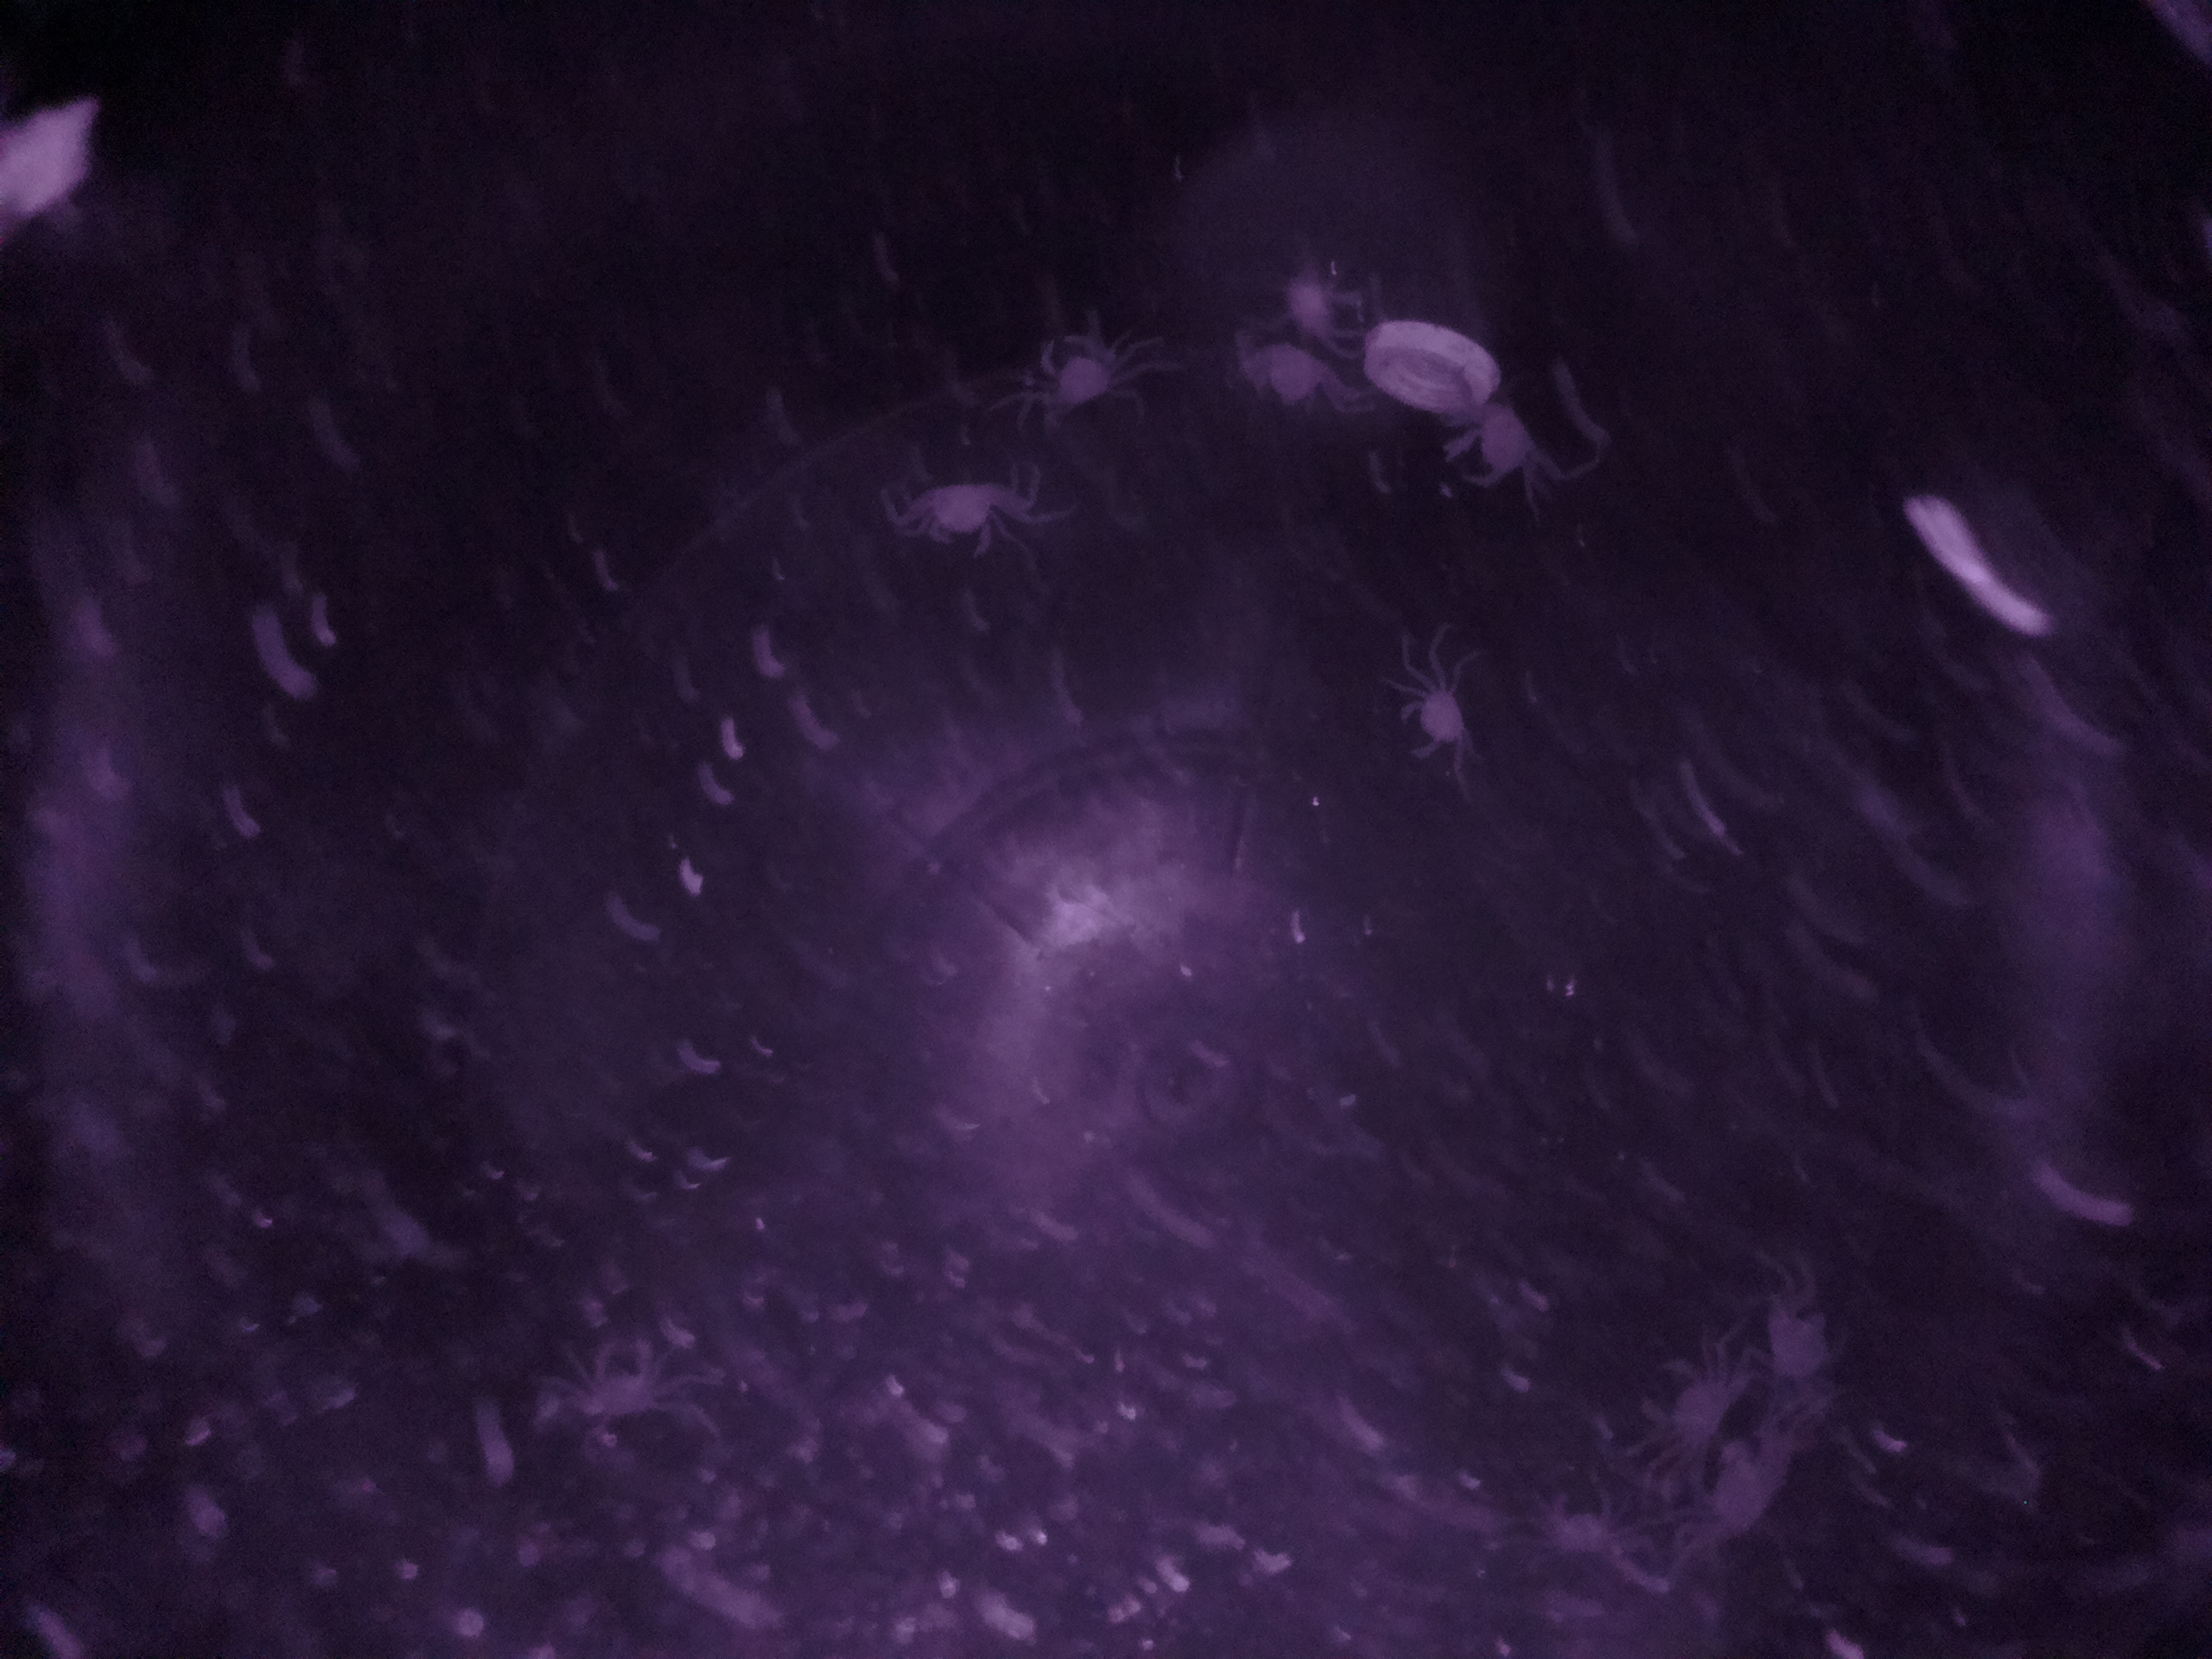Crab: (1017, 314, 1134, 432), (1428, 382, 1540, 497), (904, 453, 1017, 565), (1376, 676, 1494, 769)
